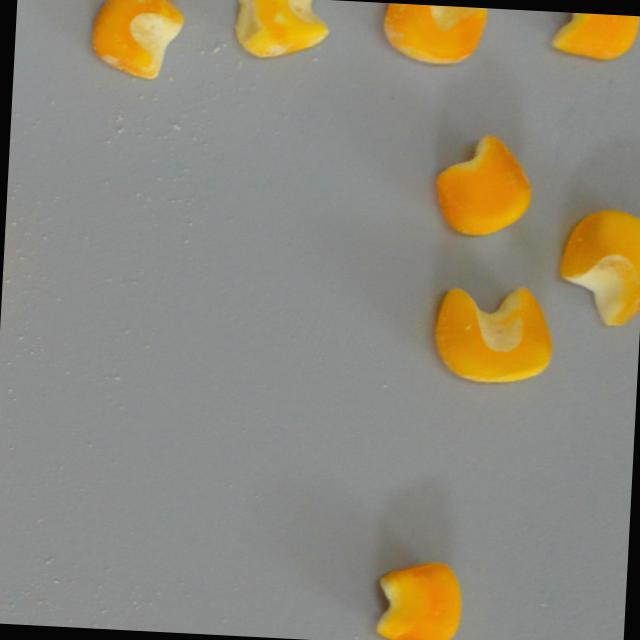no_canjicado: (429, 280, 555, 387), (430, 130, 535, 239), (557, 207, 640, 328), (374, 559, 463, 640)
pelicula: (87, 0, 185, 81), (379, 3, 489, 67), (231, 0, 330, 61), (547, 12, 640, 64)
